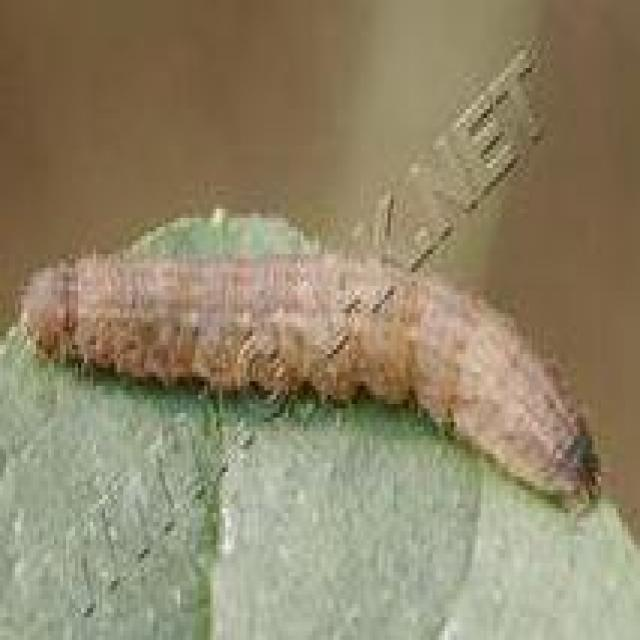armyworm: (26, 237, 634, 535)
